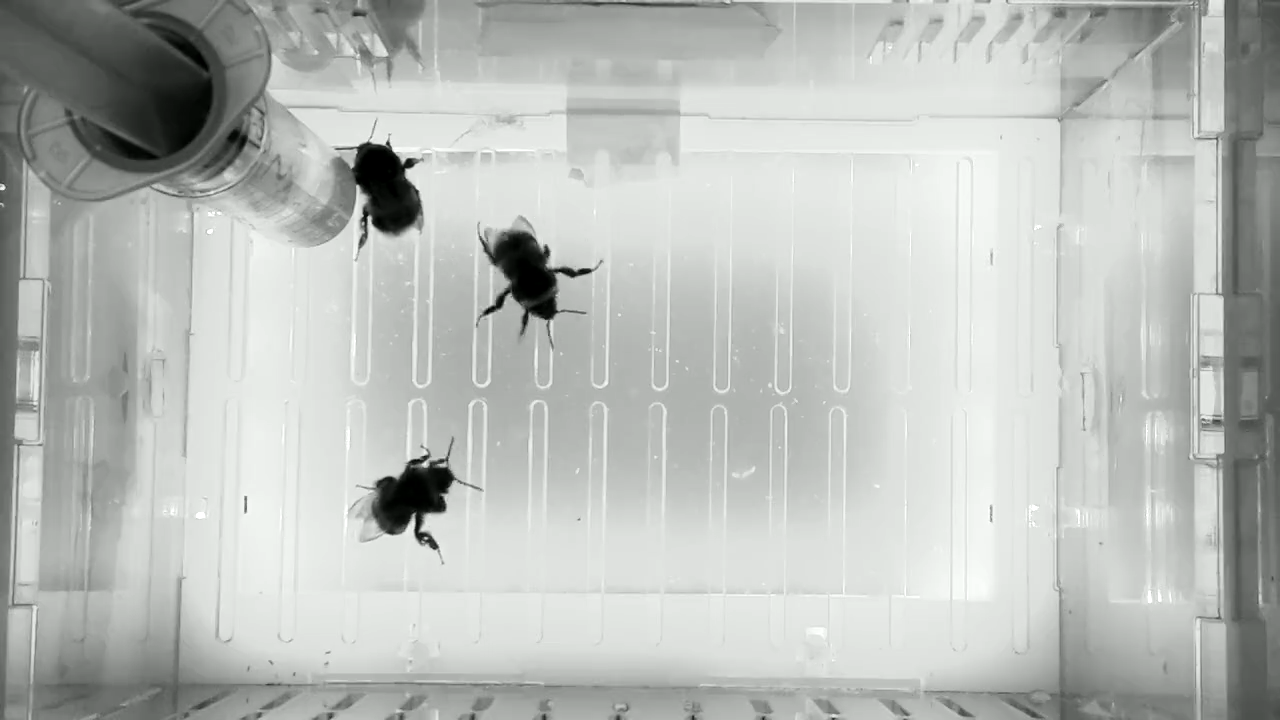bee_alive: (468, 209, 609, 352), (339, 432, 488, 567), (331, 115, 431, 265)
feeder: (184, 88, 361, 252)
